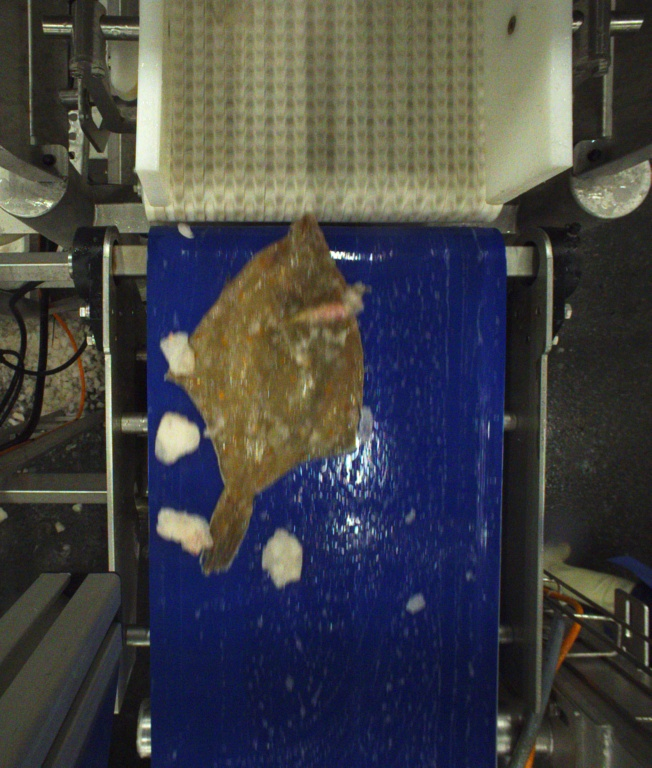PLE: (164, 209, 363, 580)
